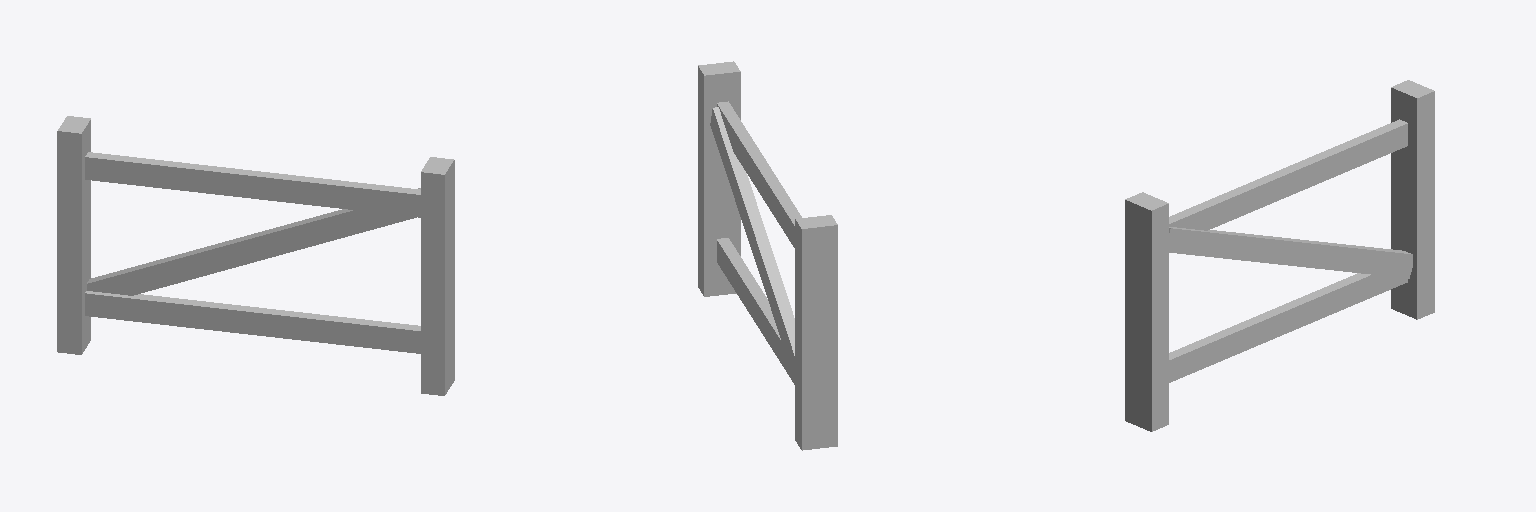
Rendered from large_iron_bucket.obj.
3 views of the same model, side by side, from view 1: azimuth 30°, elevation 25°; view 2: azimuth 150°, elevation 25°; view 3: azimuth 270°, elevation 25° (orthographic).
Visible parts, largest first — view 1: cube.001, cube.004, cube.003, cube.002, cube; view 2: cube, cube.002, cube.003, cube.001, cube.004; view 3: cube.002, cube, cube.001, cube.003, cube.004.
Boxes of the visible parts, <box> form: cube.001: <box>85,152,420,217</box>; cube.004: <box>85,291,420,353</box>; cube.003: <box>87,188,420,295</box>; cube.002: <box>421,157,454,395</box>; cube: <box>57,116,90,354</box>; cube: <box>795,215,837,450</box>; cube.002: <box>698,61,740,296</box>; cube.003: <box>710,107,794,379</box>; cube.001: <box>717,101,801,247</box>; cube.004: <box>717,238,794,384</box>; cube.002: <box>1125,192,1168,431</box>; cube: <box>1391,80,1434,319</box>; cube.001: <box>1169,119,1407,230</box>; cube.003: <box>1169,227,1412,278</box>; cube.004: <box>1169,273,1407,382</box>.
Size of the model in its own units: 1.55 by 1.22 by 1.55.